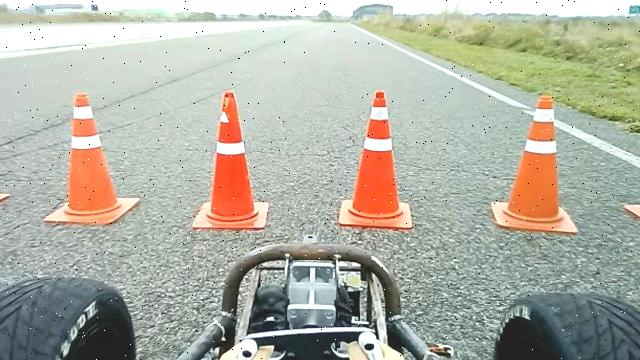red cone: (491, 93, 579, 234), (338, 89, 413, 229)
yellow cone: (43, 92, 141, 226), (190, 90, 268, 230)
